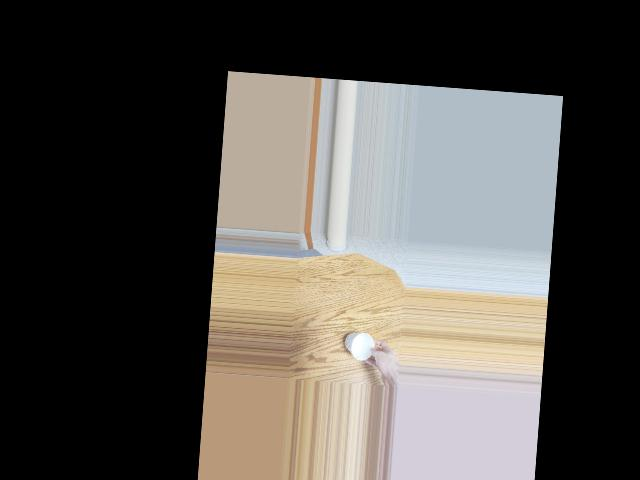cotage: (346, 329, 379, 361)
